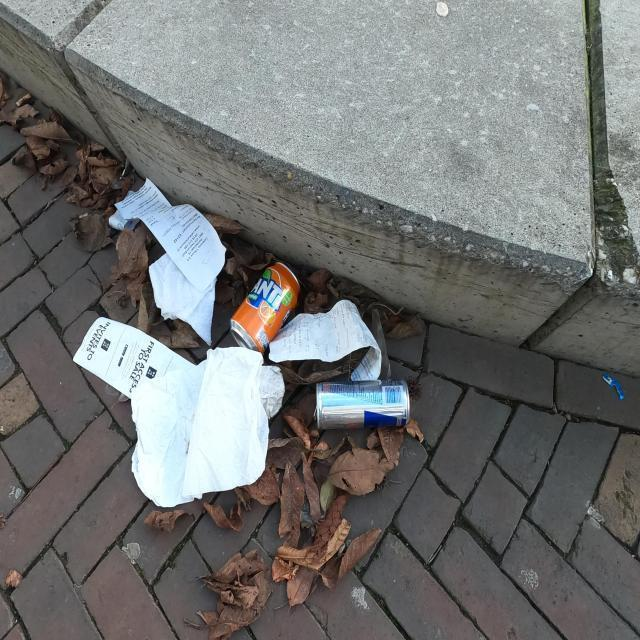Can-Metal: (228, 259, 302, 355), (316, 378, 410, 430)
Paper: (130, 345, 286, 510), (114, 174, 228, 293), (72, 316, 198, 400), (268, 298, 382, 382), (147, 252, 218, 348)
